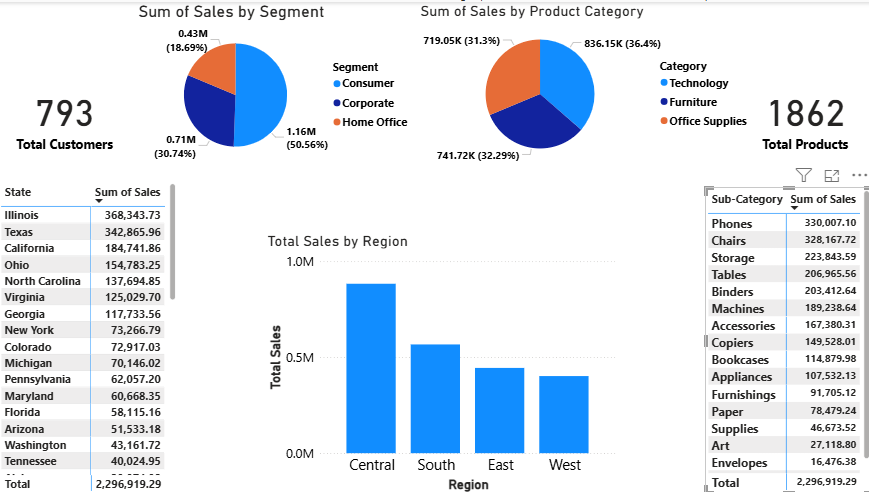

Layout of this report page (visuals, bound fields, positions):
{"tool":"powerbi","page":{"name":"Customers & Product Analysis","canvas":[1280,720],"ordinal":1},"visuals":[{"type":"pieChart","title":"Sum of Sales by Product Category","fields":{"Y":["Sum(orders_fact.Sales)"],"Category":["products_dim.Category"]},"box":[613.1,0,497.2,245.2],"z":0},{"type":"pivotTable","fields":{"Rows":["products_dim.Sub-Category"],"Values":["Sum(orders_fact.Sales)"]},"box":[1034.8,260.4,245.2,460.3],"z":1000},{"type":"card","fields":{"Values":["products_dim.Total Products"]},"box":[1110.3,107.5,141.1,122.6],"z":2000},{"type":"pieChart","fields":{"Y":["Sum(orders_fact.Sales)"],"Category":["customers_dim.Segment"]},"box":[199.9,0,413.2,245.2],"z":3000},{"type":"pivotTable","fields":{"Rows":["customers_dim.State"],"Values":["Sum(orders_fact.Sales)"]},"box":[0,260.4,265.4,460.3],"z":4000},{"type":"card","fields":{"Values":["customers_dim.Total Customers"]},"box":[11.8,107.5,171.3,122.6],"z":5000},{"type":"clusteredColumnChart","fields":{"Category":["customers_dim.Region"],"Y":["orders_fact.Total Sales"]},"box":[389.7,336,520.7,384.7],"z":6000}]}

Visuals, with their boxes in screenshot pixels (x1, y1, x2, y2), scaled from the page's 1280x720 canvas onto the 869x492 screenshot:
"Sum of Sales by Product Category" pieChart: x1=416 y1=0 x2=754 y2=168
pivotTable - products_dim.Sub-Category x Sum(orders_fact.Sales): x1=703 y1=178 x2=868 y2=491
card - products_dim.Total Products: x1=754 y1=73 x2=850 y2=157
pieChart - Sum(orders_fact.Sales) x customers_dim.Segment: x1=136 y1=0 x2=416 y2=168
pivotTable - customers_dim.State x Sum(orders_fact.Sales): x1=0 y1=178 x2=180 y2=491
card - customers_dim.Total Customers: x1=8 y1=73 x2=124 y2=157
clusteredColumnChart - customers_dim.Region x orders_fact.Total Sales: x1=265 y1=230 x2=618 y2=491
